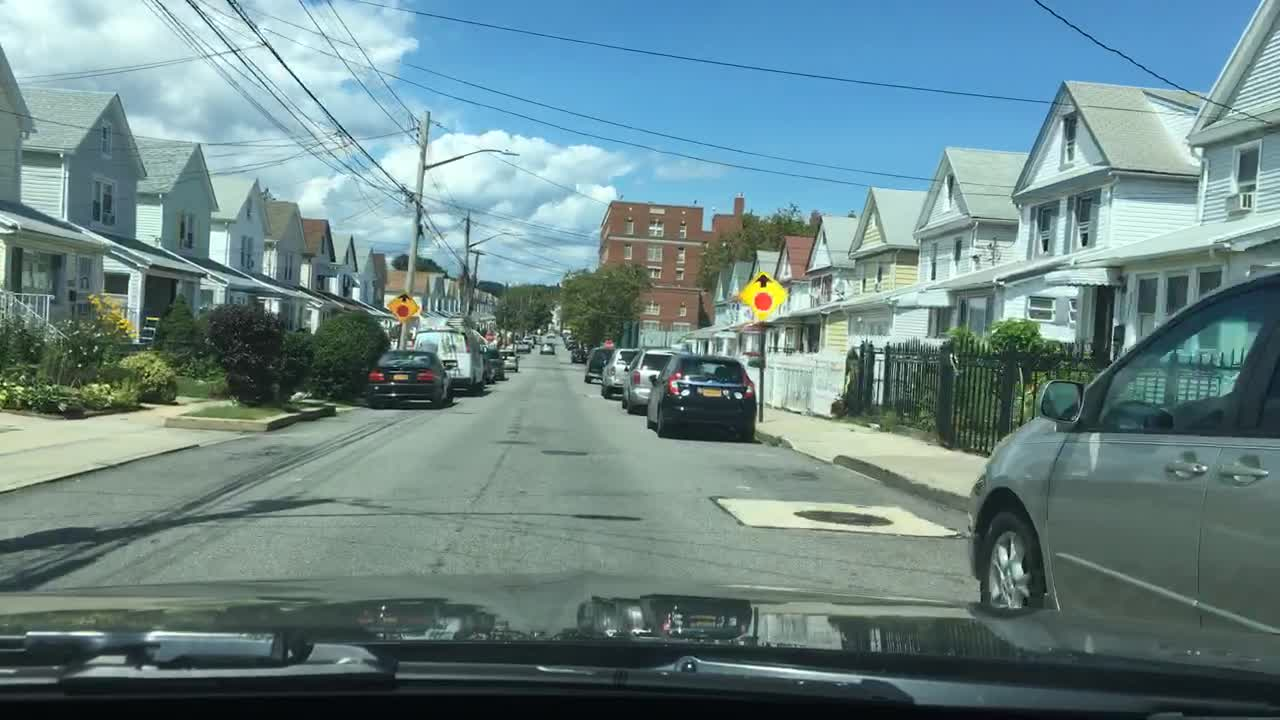car: (969, 272, 1276, 647), (643, 354, 756, 445), (363, 348, 455, 406), (411, 329, 489, 391), (623, 346, 678, 416), (597, 348, 641, 400), (585, 346, 616, 386), (485, 346, 510, 381), (510, 339, 530, 354), (570, 346, 586, 363), (501, 351, 516, 369), (524, 331, 537, 345), (541, 343, 556, 355), (566, 340, 577, 351), (545, 328, 557, 336), (562, 335, 571, 345)
traffic sign: (737, 267, 784, 318), (388, 290, 420, 321), (605, 336, 616, 345)
